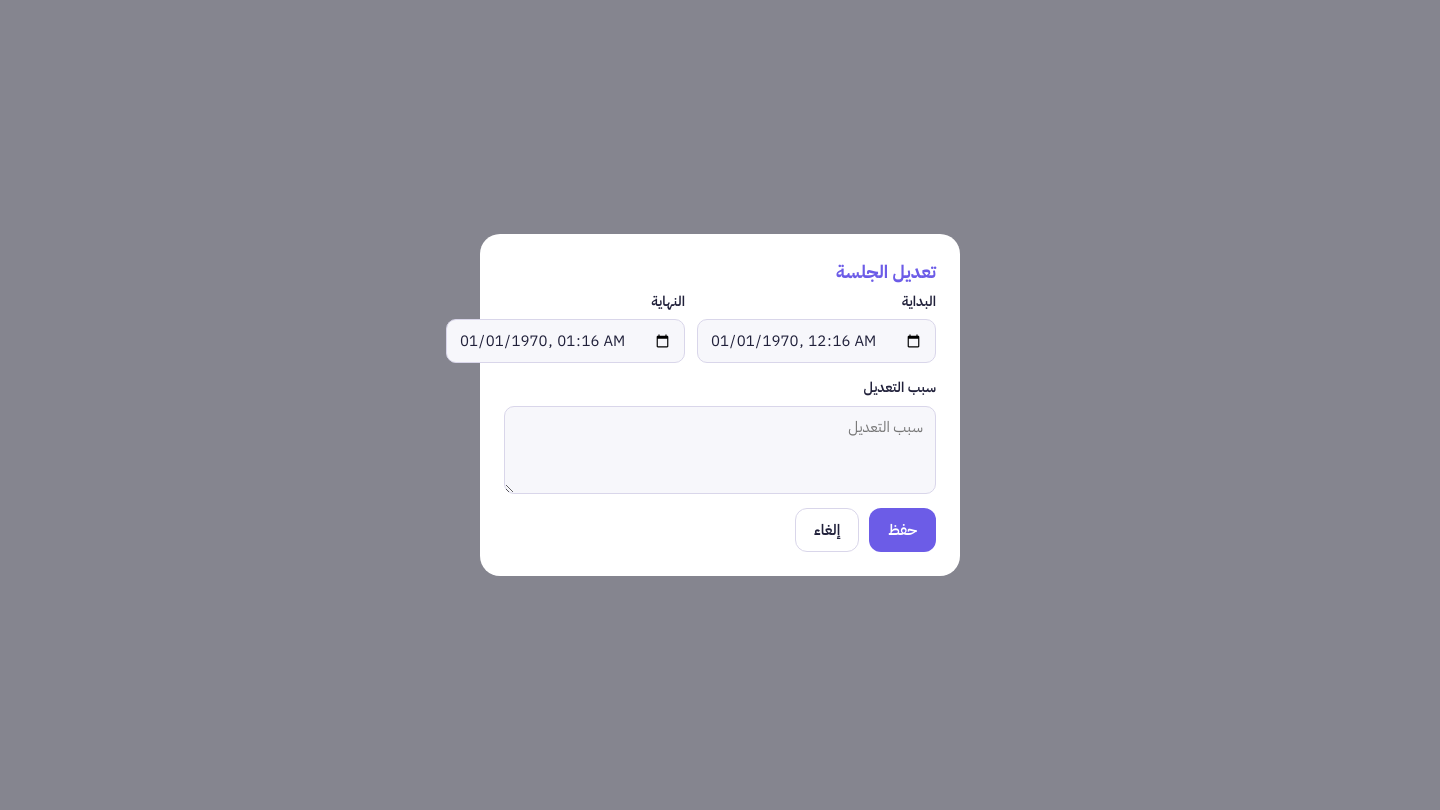
Test: SessionEditModal › blocks save without a reason
Click the button "حفظ" at (903, 530), box [869, 508, 936, 552]
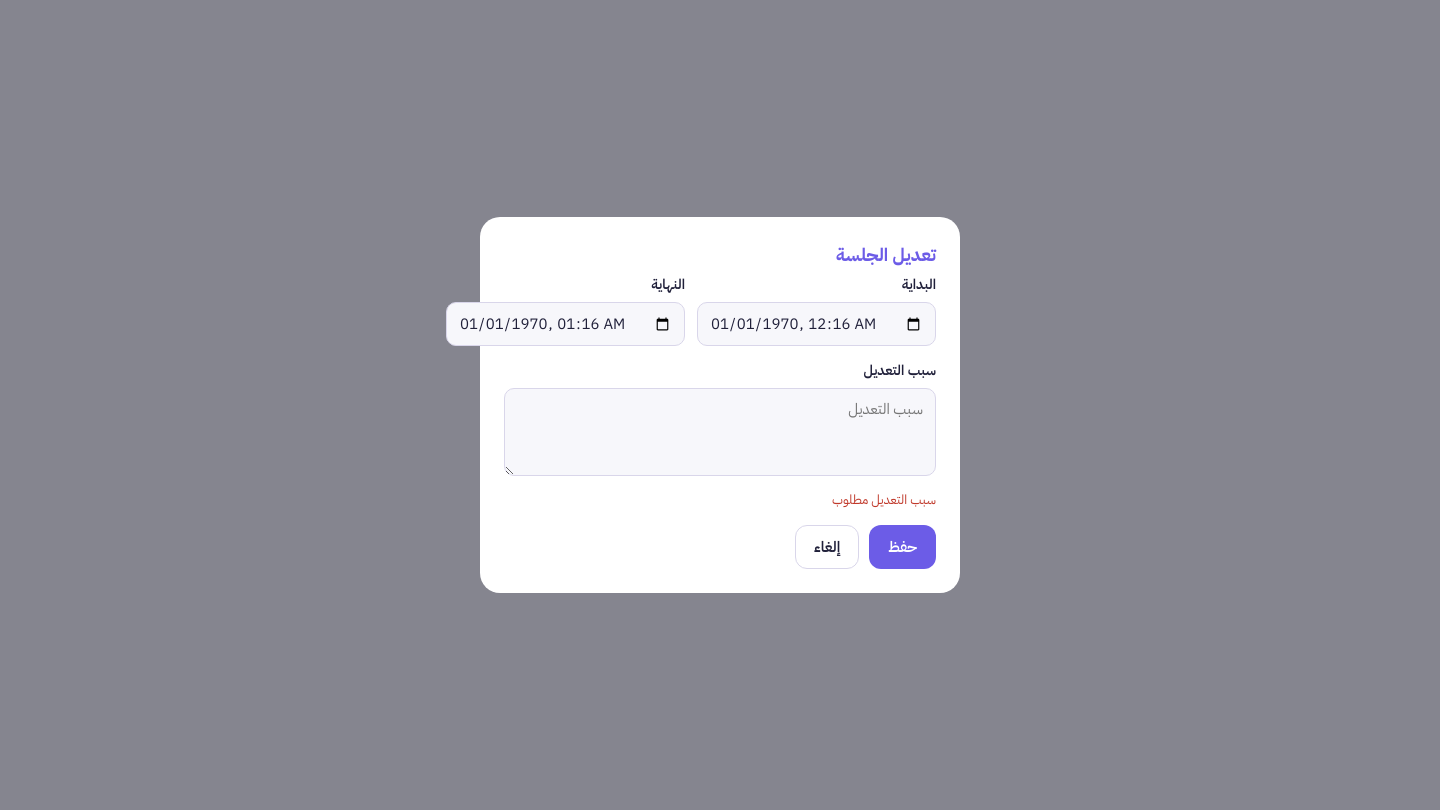
Now the text "سبب التعديل مطلوب" is shown, box [832, 490, 936, 509]
